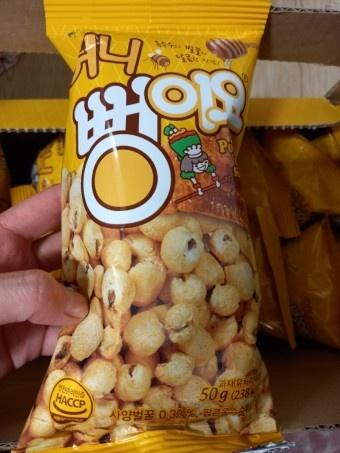snack: (17, 0, 290, 453)
